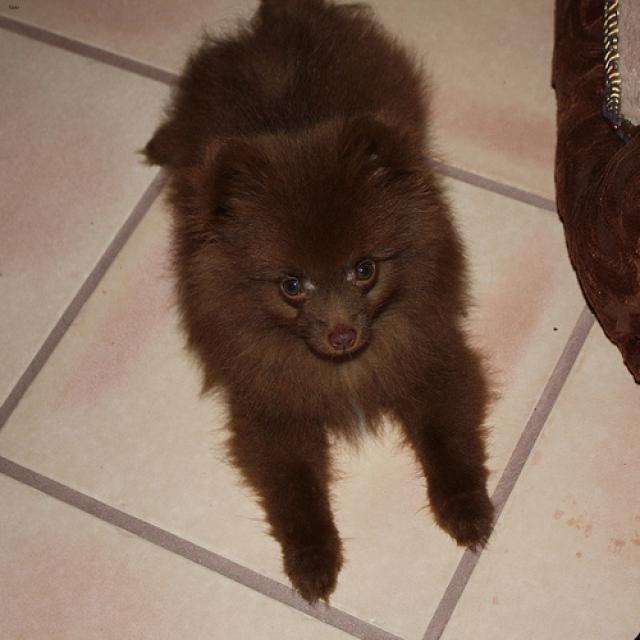dog-pomeranian: (124, 1, 503, 616)
